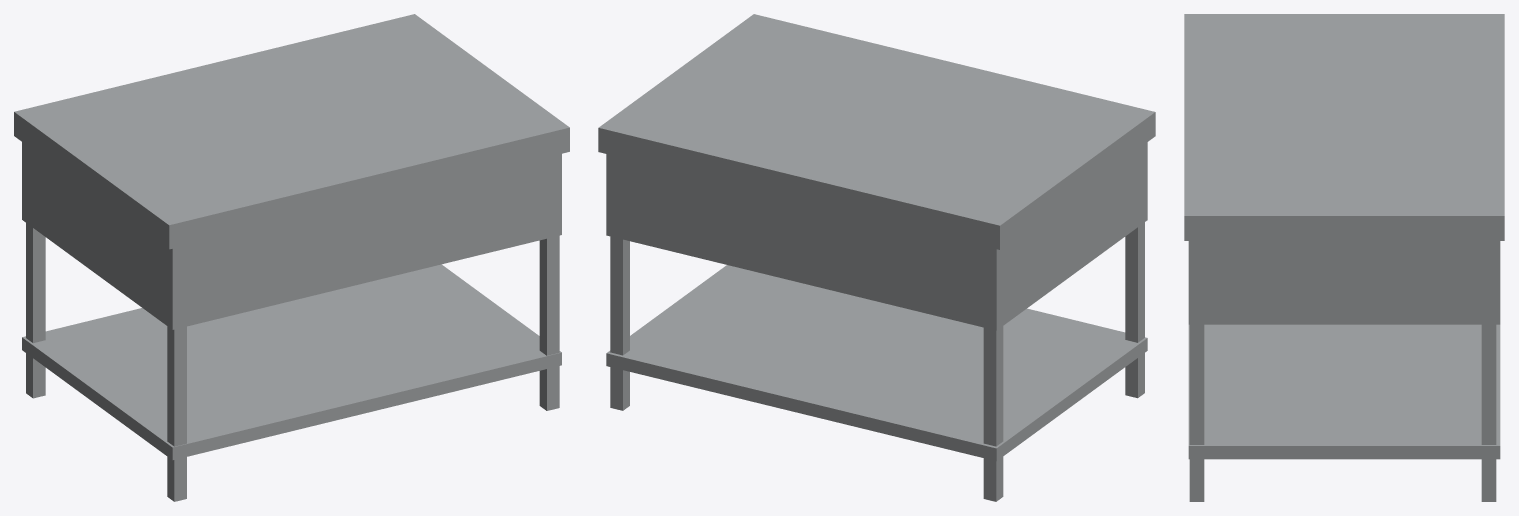
Rendered from SM_table_kitchen_01.fbx.
3 views of the same model, side by side, from view 1: azimuth 30°, elevation 25°; view 2: azimuth 150°, elevation 25°; view 3: azimuth 270°, elevation 25° (orthographic). The views are drawn at different scales.
Parts seen in each view (by area): view 1: Box160; view 2: Box160; view 3: Box160.
Boxes of the visible parts, box(x1,y1,x2,y2) form: Box160: box(14, 14, 569, 501); Box160: box(598, 14, 1155, 501); Box160: box(1184, 14, 1504, 501).
Bounding box in the file's own units: 53.89 × 36.12 × 36.04.
